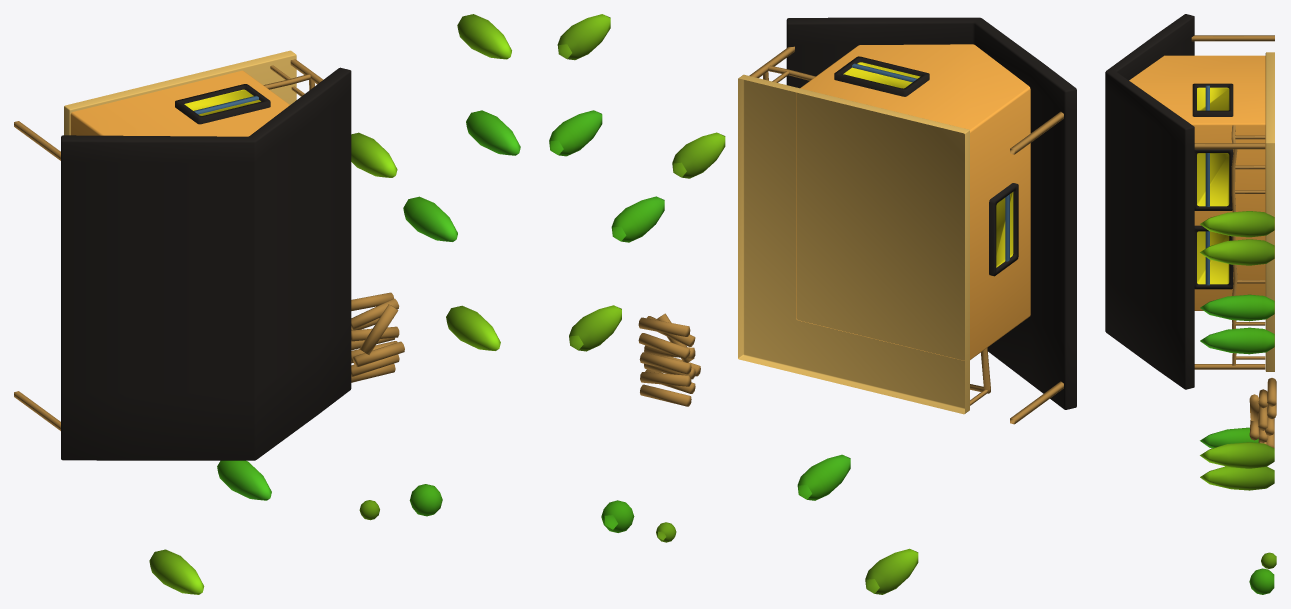
File: Simple_House_02_04.fbx
3 renders of one model, left to right at view 1: azimuth 30°, elevation 25°; view 2: azimuth 150°, elevation 25°; view 3: azimuth 270°, elevation 25°, orthographic. The views are drawn at different scales.
Visible parts, largest first — view 1: Simple_House_02_04; view 2: Simple_House_02_04; view 3: Simple_House_02_04.
Part boxes in pixels (x1=…): Simple_House_02_04: x1=14, y1=14, x2=520, y2=594; Simple_House_02_04: x1=549, y1=14, x2=1076, y2=594; Simple_House_02_04: x1=1105, y1=14, x2=1276, y2=594.
Bounding box in the file's own units: 183 × 186 × 69.37.
